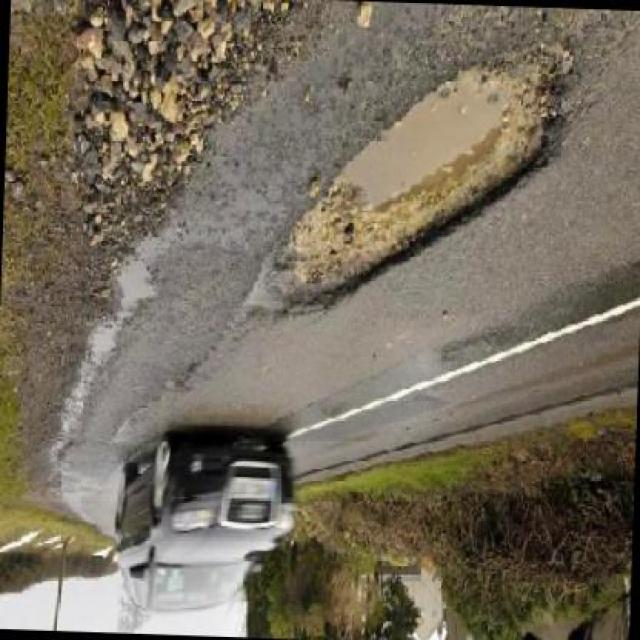pothole1: (244, 60, 568, 331)
